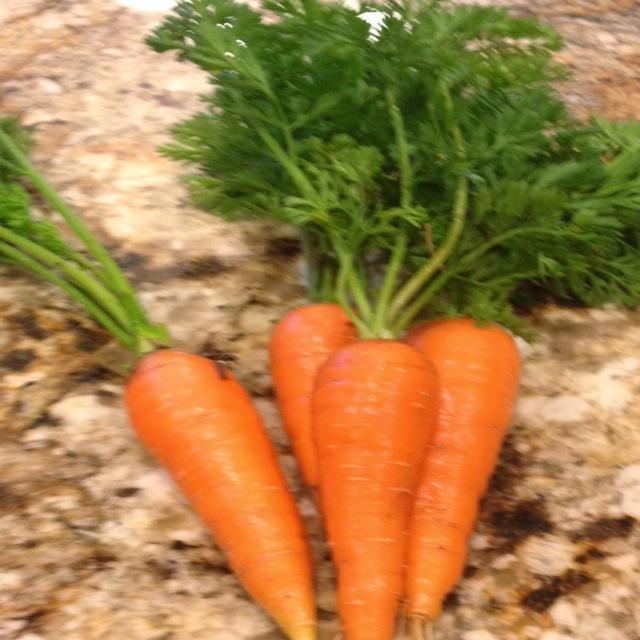carrot: (125, 350, 320, 639), (311, 341, 439, 639), (402, 318, 520, 622)
